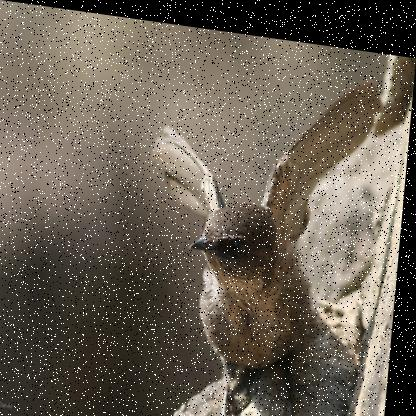Burung: (133, 45, 382, 415)
